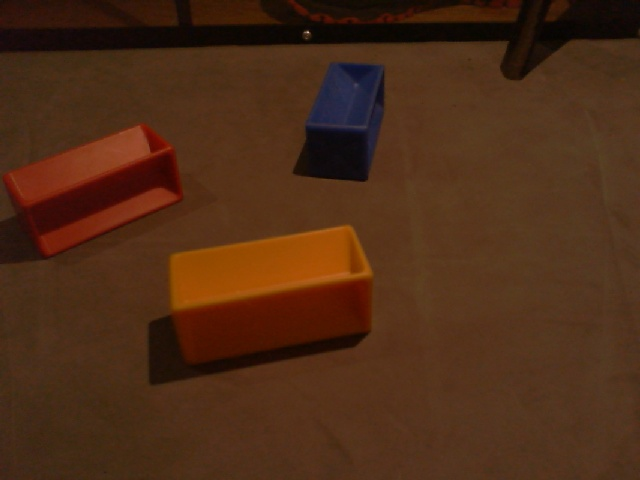BlueSample: (301, 58, 385, 179)
RedSample: (5, 123, 183, 261)
YellowSample: (168, 222, 372, 369)
